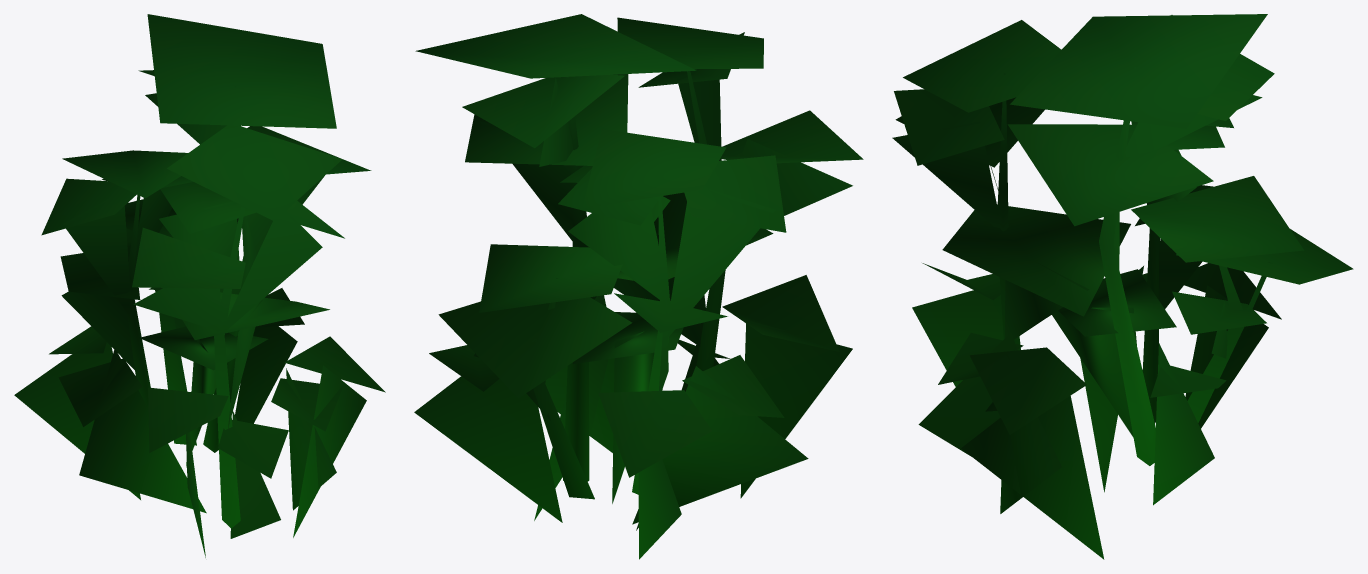
Rendered from env_nature_foliage_padplant02_lod0.fbx.
3 views of the same model, side by side, from view 1: azimuth 30°, elevation 25°; view 2: azimuth 150°, elevation 25°; view 3: azimuth 270°, elevation 25° (orthographic). The views are drawn at different scales.
Parts seen in each view (by area): view 1: env_nature_foliage_padplant02_lod0; view 2: env_nature_foliage_padplant02_lod0; view 3: env_nature_foliage_padplant02_lod0.
Boxes of the visible parts, <box> form: env_nature_foliage_padplant02_lod0: <box>14,14,385,557</box>; env_nature_foliage_padplant02_lod0: <box>414,14,863,559</box>; env_nature_foliage_padplant02_lod0: <box>892,14,1353,559</box>.
Size of the model in its own units: 8.28 by 11.99 by 9.88.
